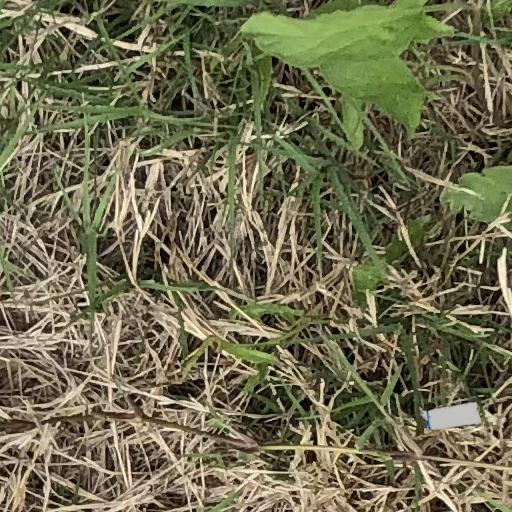smoke: (422, 403, 481, 430)
